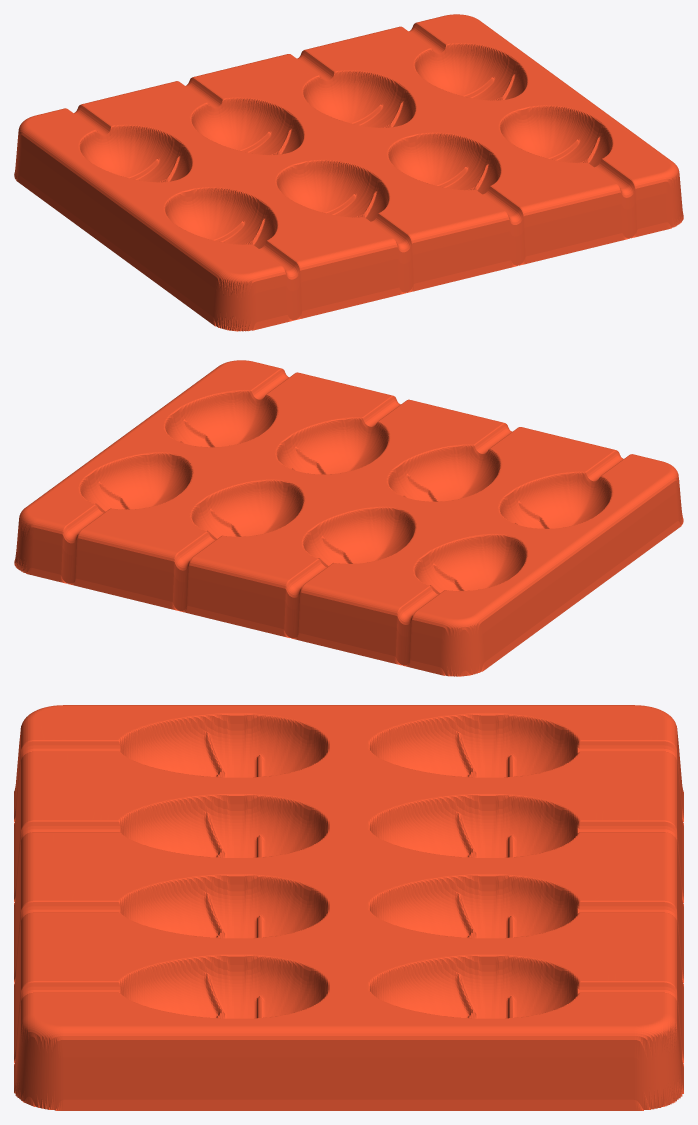
File: mold.glb
3 views of the same model, one above another, from view 1: azimuth 30°, elevation 25°; view 2: azimuth 150°, elevation 25°; view 3: azimuth 270°, elevation 25° (orthographic). The views are drawn at different scales.
Parts seen in each view (by area): view 1: geometry_0; view 2: geometry_0; view 3: geometry_0.
Part boxes in pixels (left/top/right/bottom): geometry_0: left=14, top=14, right=683, bottom=331; geometry_0: left=14, top=360, right=683, bottom=676; geometry_0: left=14, top=705, right=683, bottom=1110.
Size of the model in its own units: 0.1459 by 0.0155 by 0.1229.
